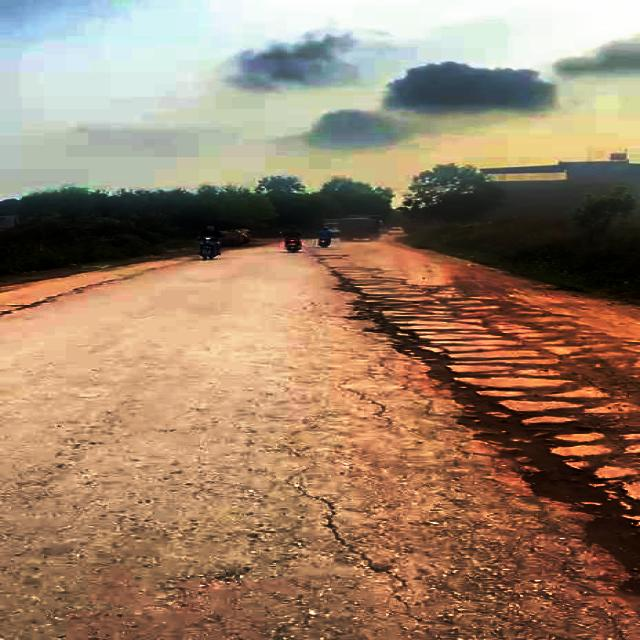pothole: (467, 411, 640, 571), (400, 342, 510, 423), (342, 296, 432, 349), (328, 272, 374, 299)
